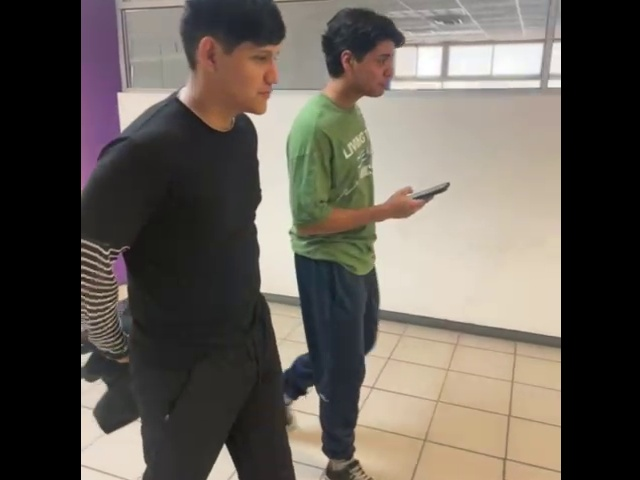mixto2: (405, 178, 458, 211)
